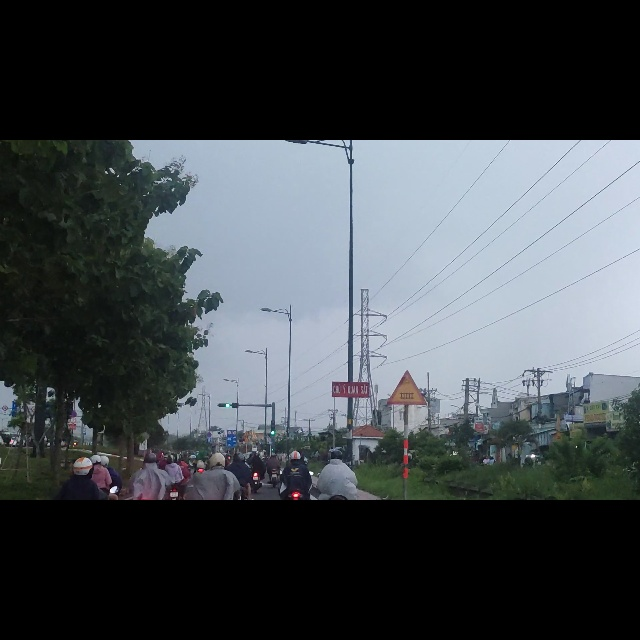bien_chi_dan: (387, 408, 427, 475), (207, 529, 212, 538)
